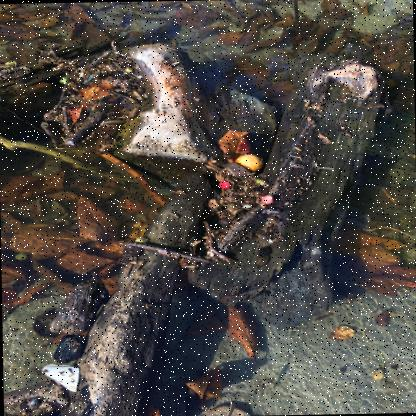Other plastic bottle: (42, 363, 79, 391), (84, 75, 95, 82)
Plastic bottle cap: (261, 195, 273, 204), (219, 181, 230, 189)
